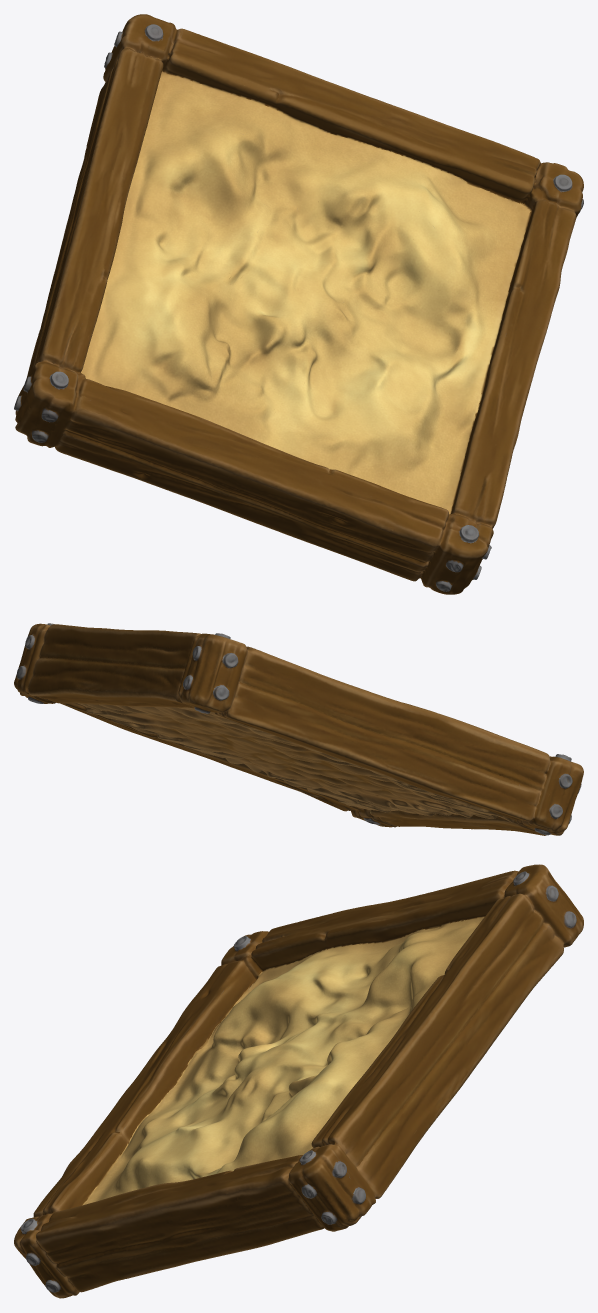
File: sandbox.glb
The picture shows the model from 3 angles, top to bottom: view 1: azimuth 30°, elevation 25°; view 2: azimuth 150°, elevation 25°; view 3: azimuth 270°, elevation 25°; orthographic projection. The views are drawn at different scales.
Bounding box in the file's own units: 0.8819 × 0.5928 × 0.7698.
Materials: 1 (1 with a texture image).
